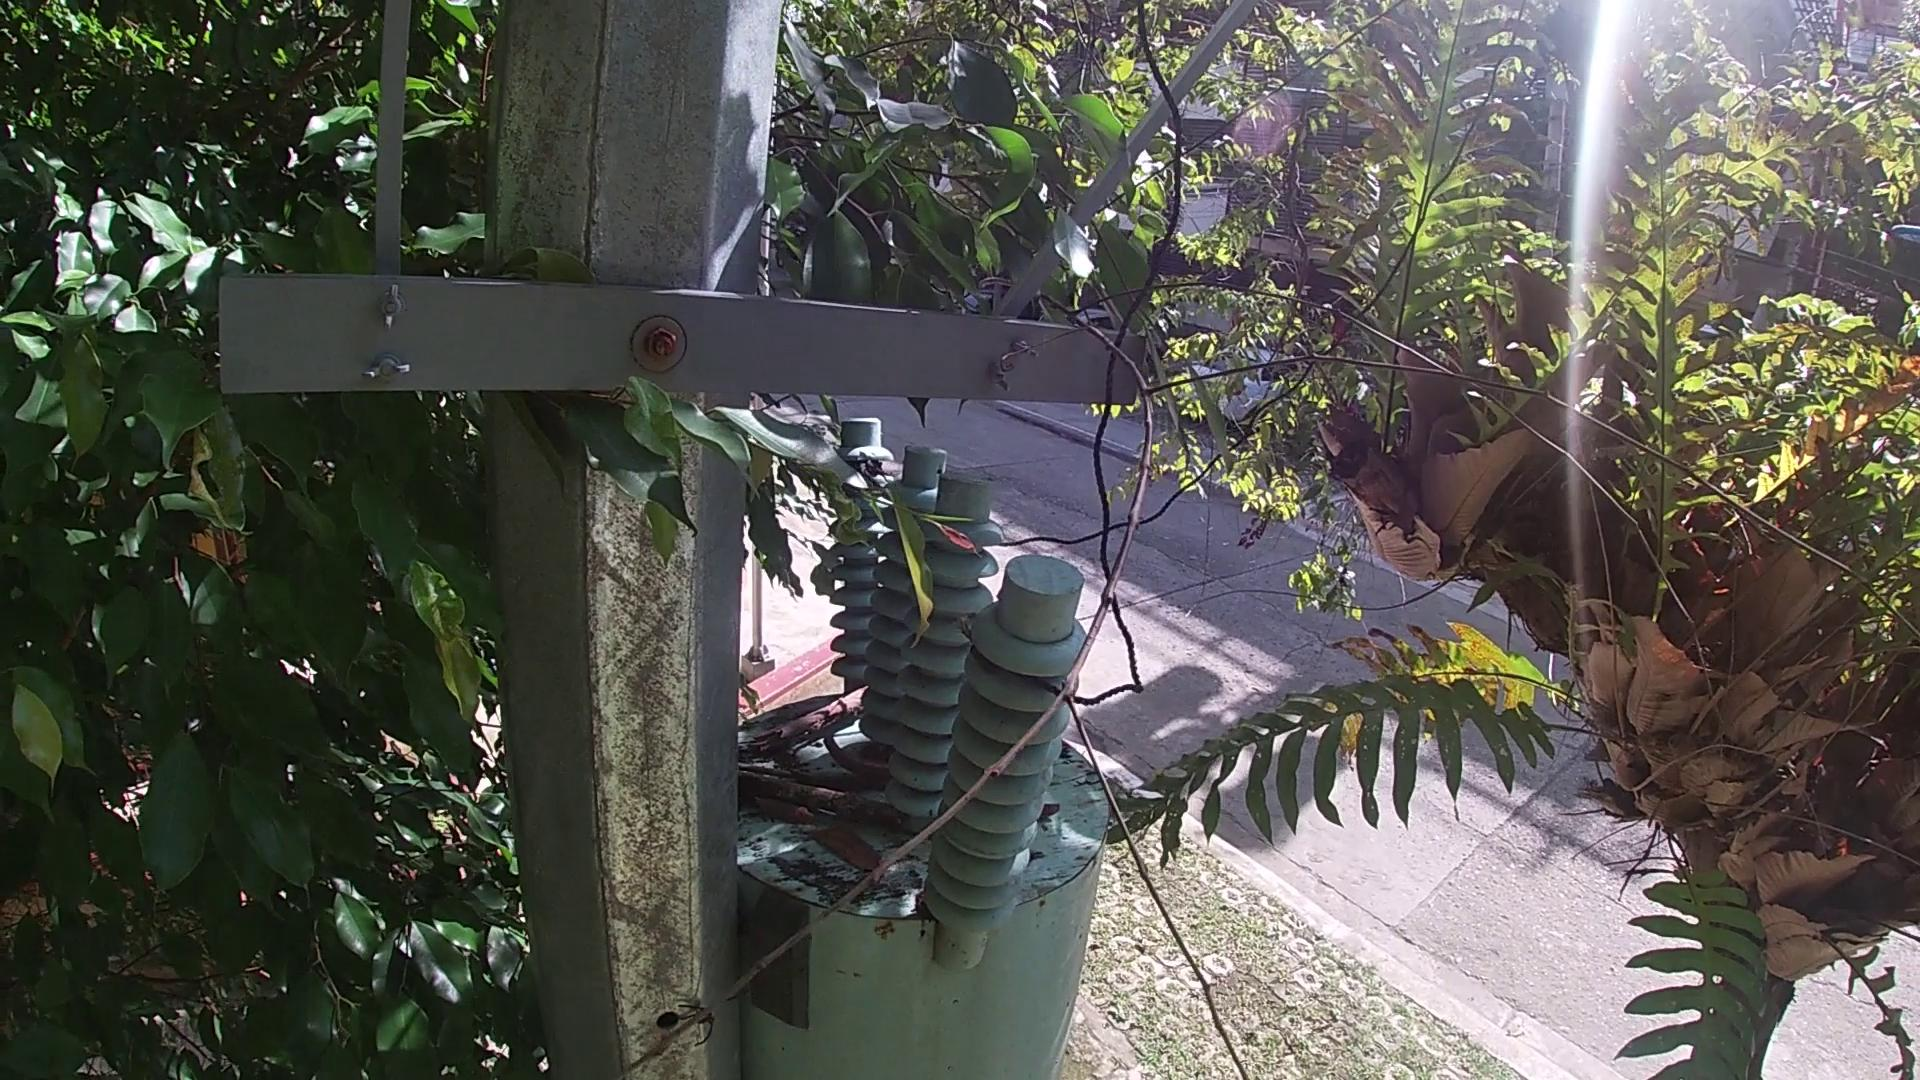leaf: (800, 823, 880, 872), (748, 795, 814, 825)
tree branch: (595, 272, 1920, 1077), (735, 765, 911, 835), (748, 684, 870, 762)
